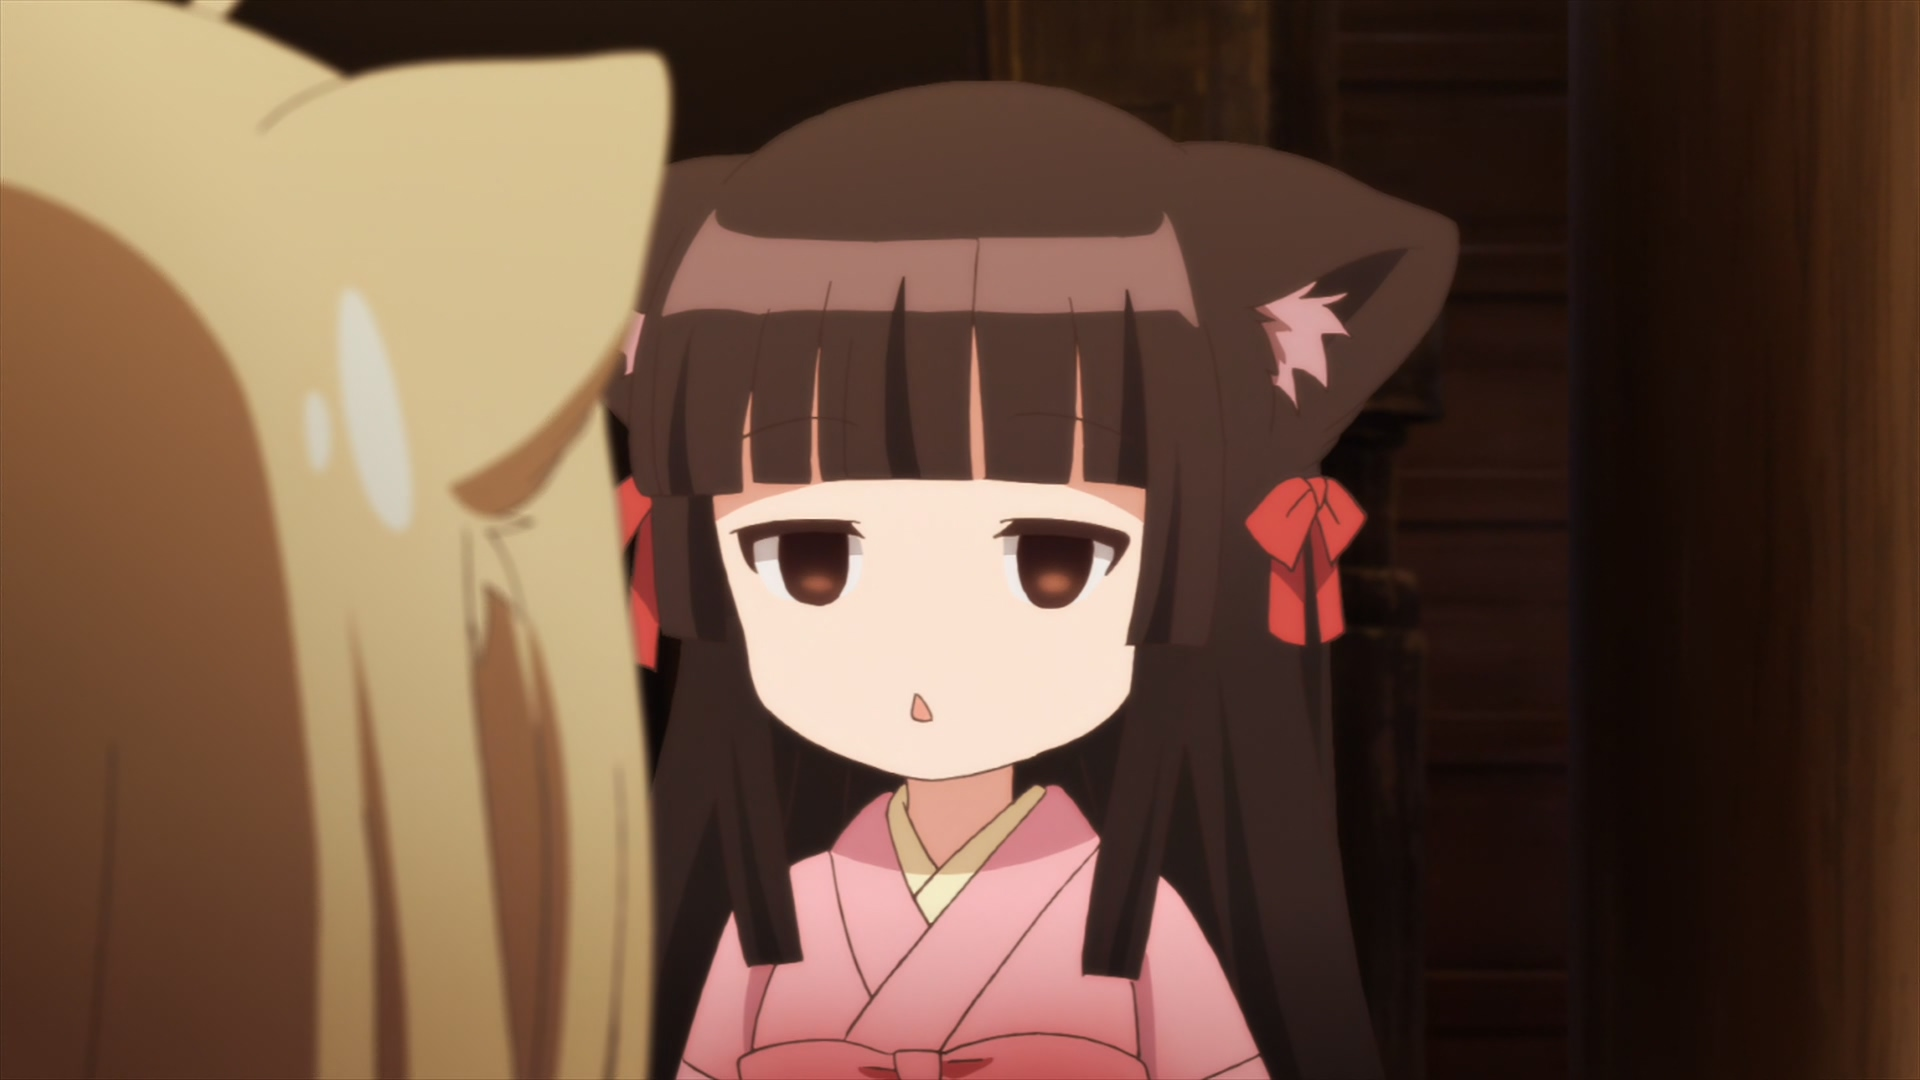柚: (1, 1, 671, 1080)
樱: (604, 82, 1461, 1080)
